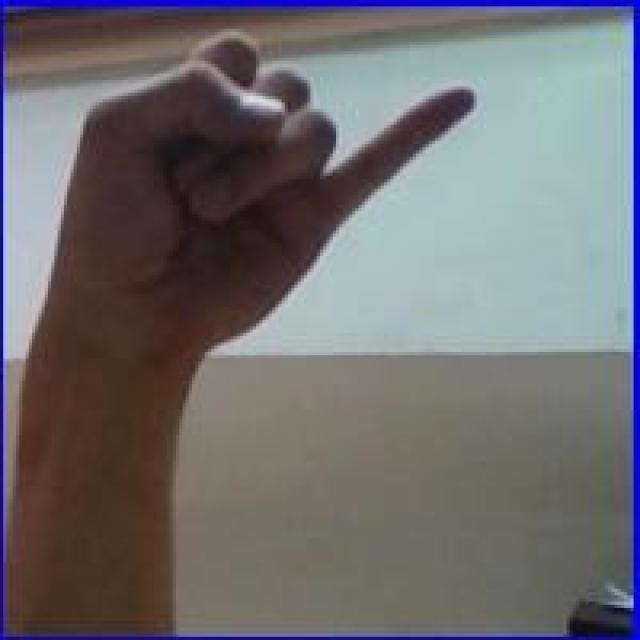J: (24, 24, 498, 376)
